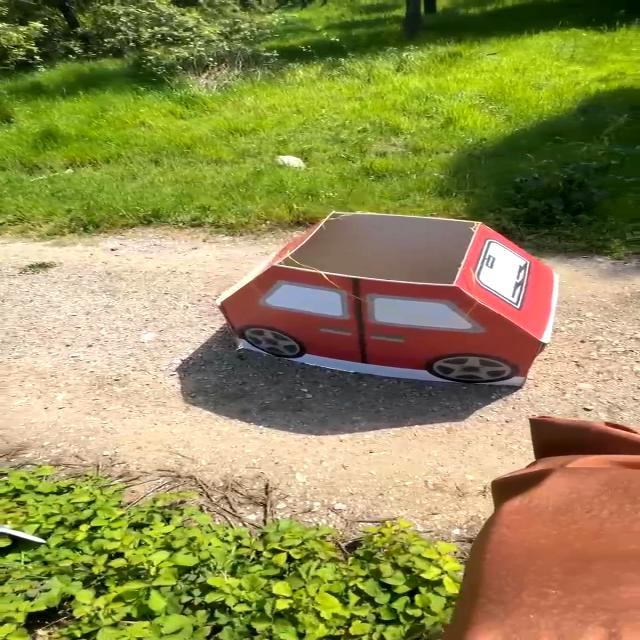red_car: (203, 193, 583, 393)
